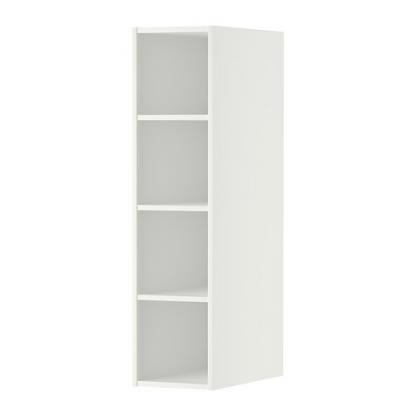Cabinet: (129, 22, 290, 394)
